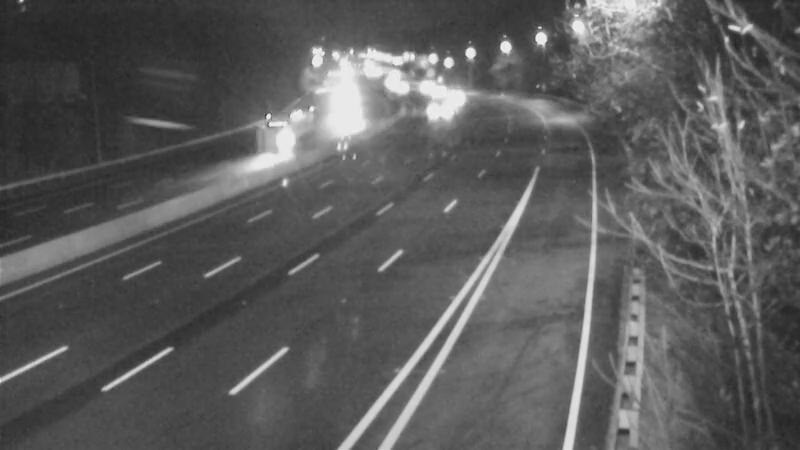vehicle: (374, 64, 424, 114), (396, 65, 446, 115), (421, 66, 471, 116), (432, 75, 482, 125), (417, 86, 467, 136), (256, 111, 306, 161), (318, 95, 368, 145)
